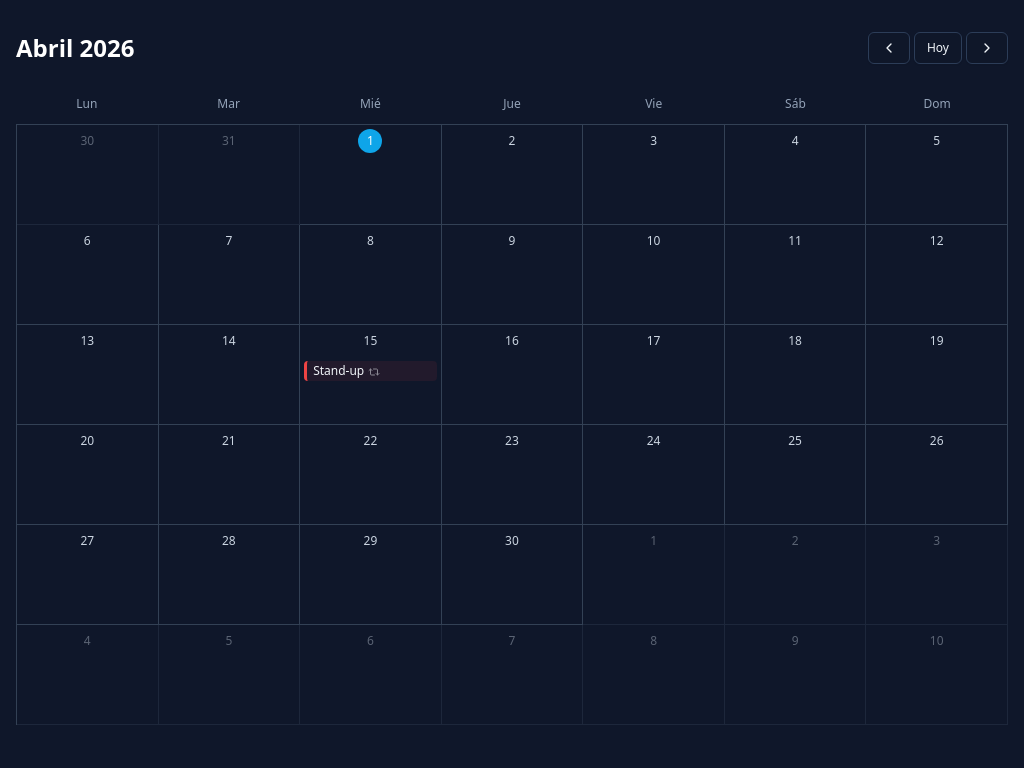
CalendarPage — recurring event scope › shows scope dialog for recurring event delete
The width and height of the screenshot is (1024, 768).
Expected: the text "Stand-up" is shown, [313,362,364,379]
Click the button "Stand-up": (370, 371) [304,361,437,381]
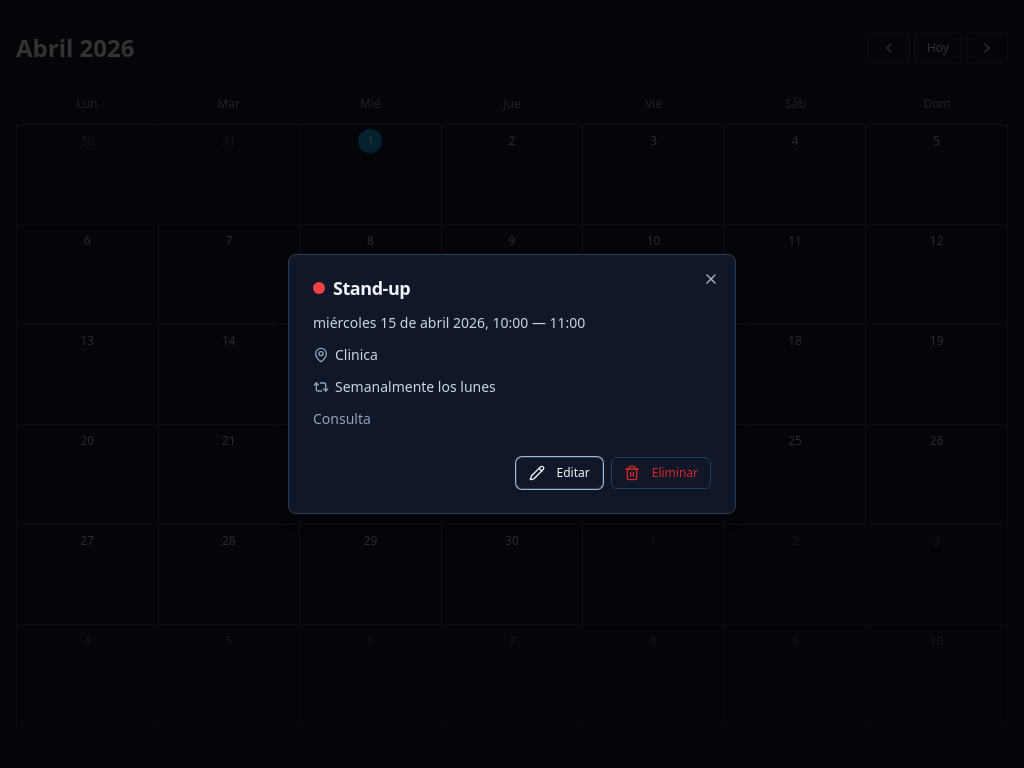
Now the button "Eliminar" is shown
Click the button "Eliminar": (661, 473) [611,457,711,489]
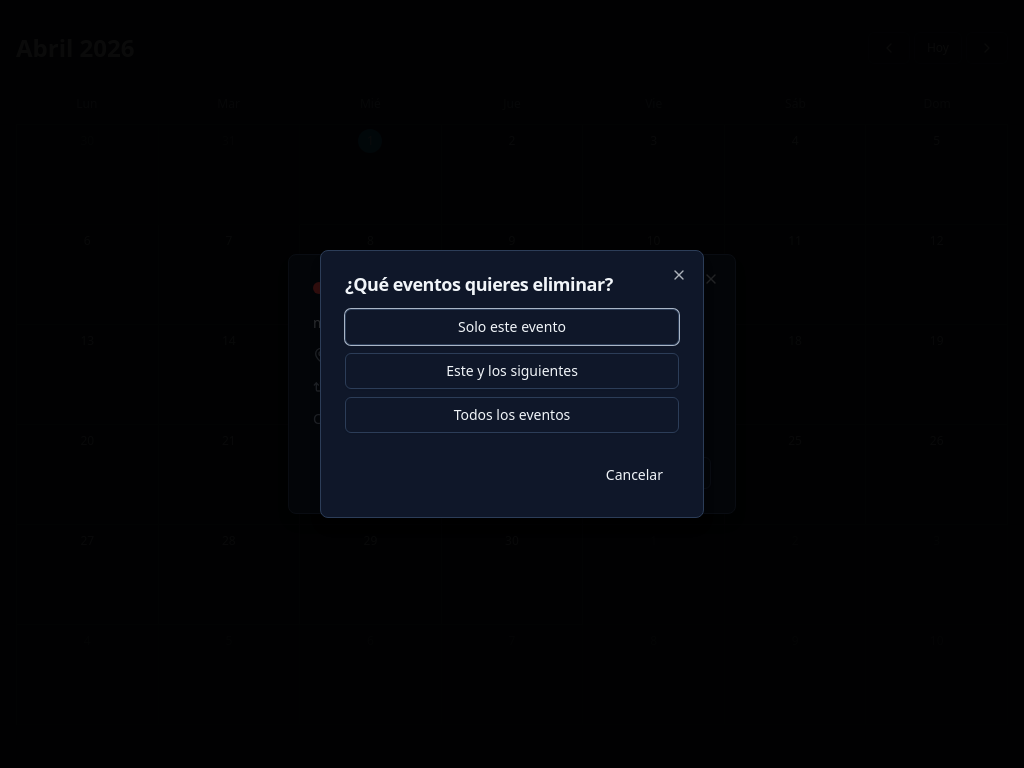
Now the heading "¿Qué eventos quieres eliminar?" is shown, box [345,272,613,296]
Now the button "Solo este evento" is shown, box [345,309,679,345]
Now the button "Todos los eventos" is shown, box [345,397,679,433]
